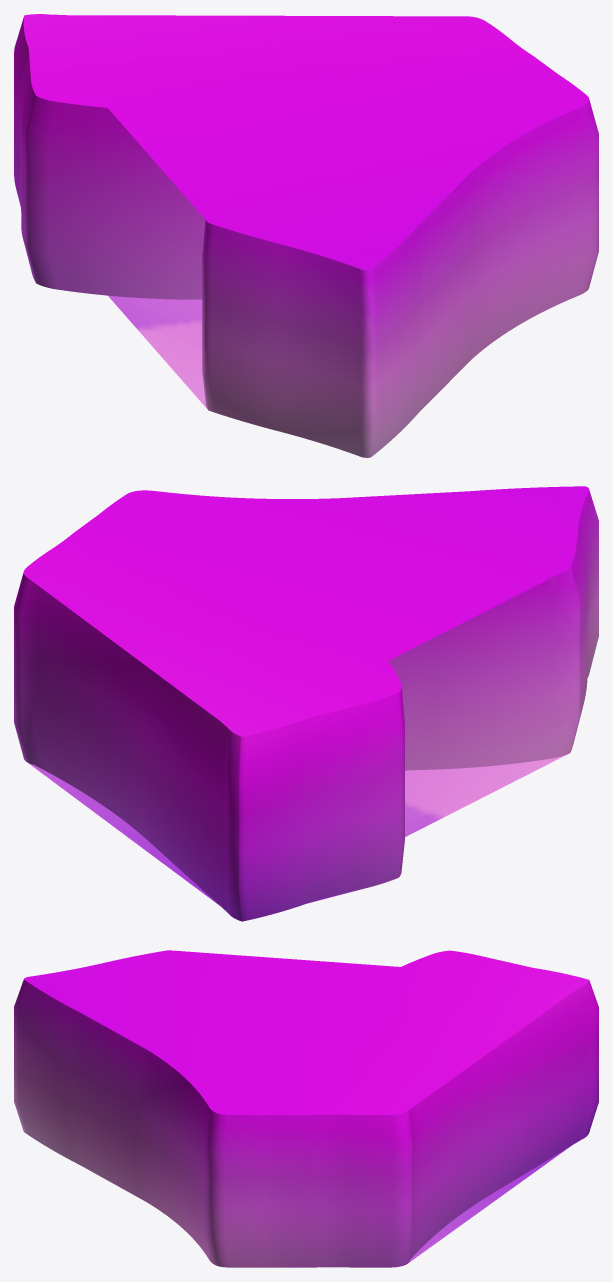
3 renders of one model, top to bottom at view 1: azimuth 30°, elevation 25°; view 2: azimuth 150°, elevation 25°; view 3: azimuth 270°, elevation 25°, orthographic. The views are drawn at different scales.
Visible parts, largest first — view 1: Curve.014; view 2: Curve.014; view 3: Curve.014.
Part boxes in pixels (x1,y1,x2,y2): Curve.014: [14, 14, 598, 457]; Curve.014: [14, 486, 598, 921]; Curve.014: [14, 950, 598, 1267].
Bounding box in the file's own units: 27.21 × 11.36 × 39.44.
1 material, 1 textured.
